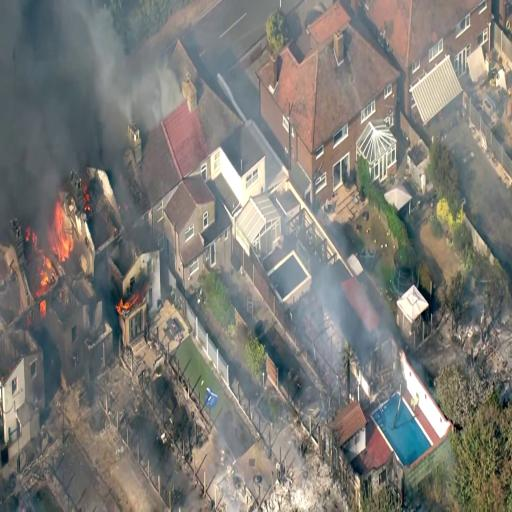fire: (42, 203, 72, 270), (26, 234, 53, 295)
smoke: (0, 0, 83, 133)
